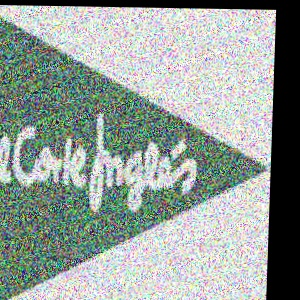corte_ingles: (199, 61, 207, 165)
